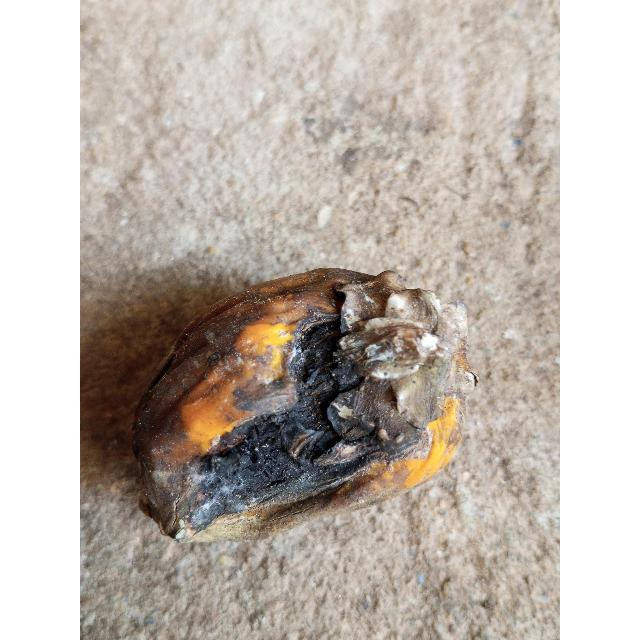damaged: (131, 268, 474, 546)
